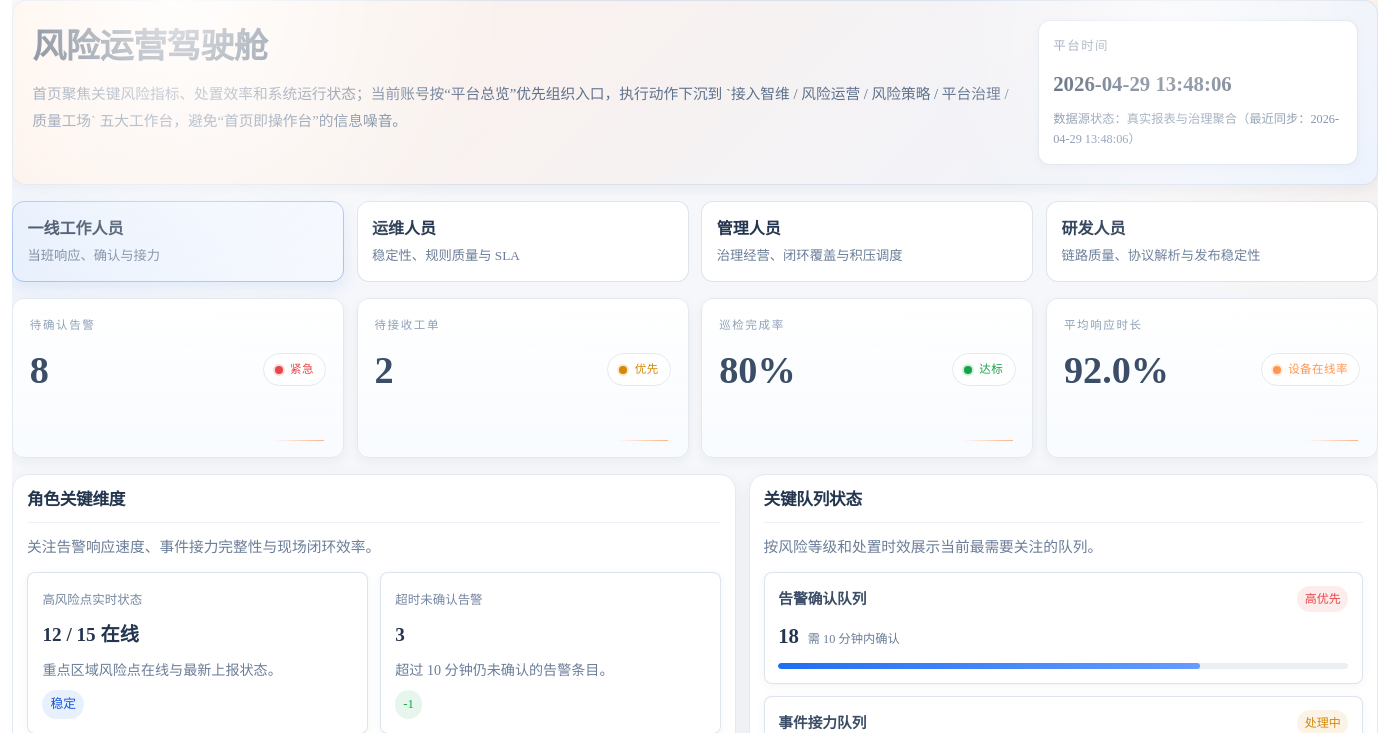
Scenario: display view eyebrow cleanup › keeps the cockpit view on Chinese hierarchy without the legacy English eyebrow tiers
The width and height of the screenshot is (1390, 733).
Click the button "管理人员 治理经营、闭环覆盖与积压调度".
click(749, 228)  # box [701,201,1033,282]
(page scrolled)
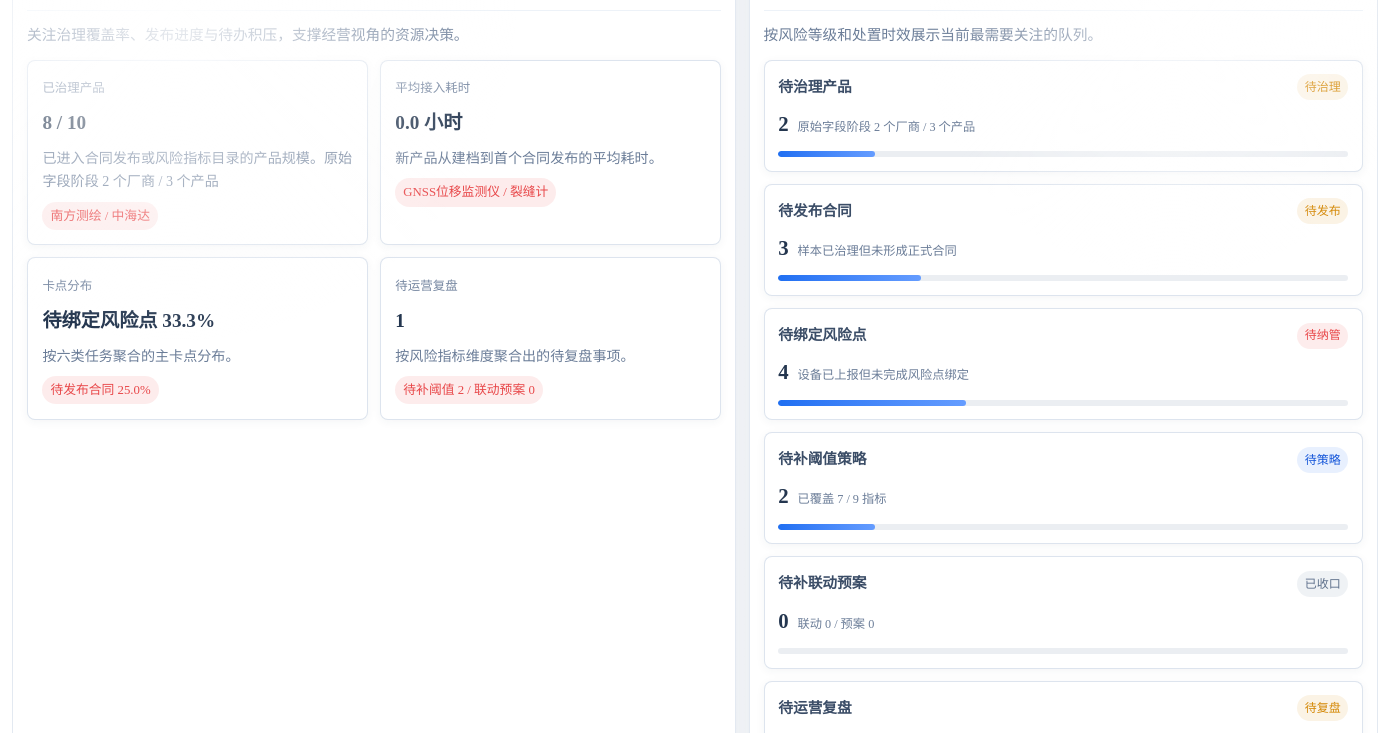
Now the text "原始字段阶段 2 个厂商 / 3 个产品" is shown, box [42,150,352,189]
Now the text "南方测绘 / 中海达" is shown, box [42,202,158,230]
Now the text "GNSS位移监测仪 / 裂缝计" is shown, box [395,178,556,207]
